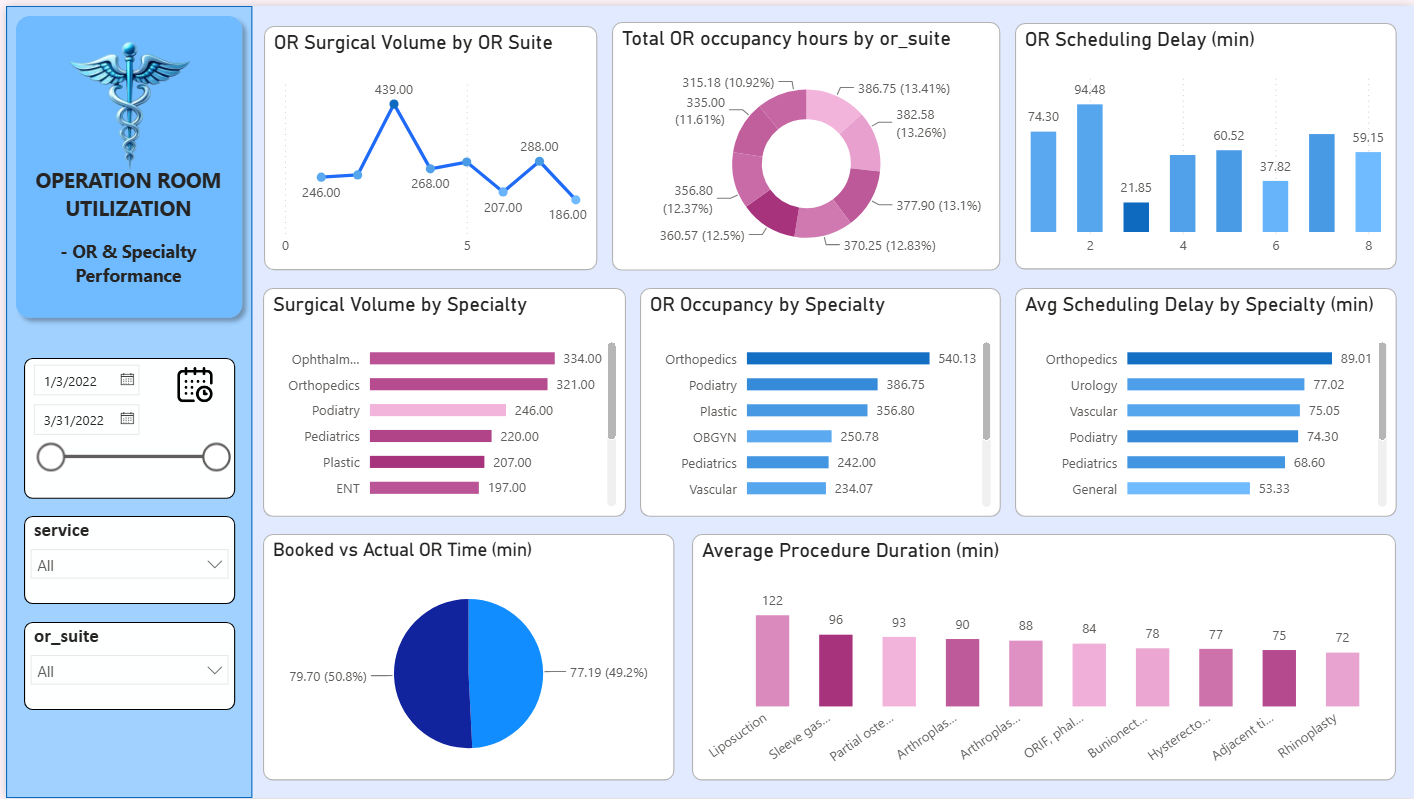

Layout of this report page (visuals, bound fields, positions):
{"tool":"powerbi","page":{"name":"- OR & Specialty Performance","canvas":[1280,720],"ordinal":1},"visuals":[{"type":"shape","box":[0,0,224,720],"z":0},{"type":"slicer","fields":{"Values":["or_utilization_v2.surgery_date"]},"box":[16,320,192,128],"z":1000},{"type":"shape","box":[0,0,223.8,292.3],"z":2000},{"type":"textbox","box":[15.7,145.7,191.4,124.3],"z":3000},{"type":"slicer","fields":{"Values":["or_utilization_v2.or_suite"]},"box":[16,560,192,80],"z":4000},{"type":"slicer","fields":{"Values":["or_utilization_v2.service"]},"box":[16,464,192,80],"z":5000},{"type":"group","id":"g1","title":"Group 2","box":[234.3,14.9,1029.7,225.6],"z":6000},{"type":"lineChart","title":"OR Surgical Volume by OR Suite","fields":{"Y":["or_utilization_v2.Total Surgeries"],"Category":["or_utilization_v2.or_suite"]},"box":[234.3,18.5,302.5,221.7],"z":6000,"group":"g1"},{"type":"donutChart","fields":{"Category":["or_utilization_v2.or_suite"],"Y":["or_utilization_v2.Total OR occupancy hours"]},"box":[550.6,14.9,353.3,225.6],"z":7000,"group":"g1"},{"type":"clusteredColumnChart","title":"Average Procedure Duration (min)","fields":{"Category":["or_utilization_v2.cpt_description"],"Y":["or_utilization_v2.Avg Procedure duration (min)"]},"box":[623.8,480,640,223.8],"z":7000},{"type":"clusteredColumnChart","title":"OR Scheduling Delay (min)","fields":{"Category":["or_utilization_v2.or_suite"],"Y":["or_utilization_v2.Avg Scheduling Delay"]},"box":[917,16,347,224],"z":8000,"group":"g1"},{"type":"clusteredBarChart","title":"Surgical Volume by Specialty ","fields":{"Category":["or_utilization_v2.service"],"Y":["or_utilization_v2.Total Surgeries"]},"box":[233.8,256.2,330,207.5],"z":8000},{"type":"pieChart","title":"Booked vs Actual OR Time (min)","fields":{"Y":["or_utilization_v2.Avg Booked Time","or_utilization_v2.Avg OR Occupancy"]},"box":[233.8,480,373.8,223.8],"z":9000},{"type":"clusteredBarChart","title":"OR Occupancy by Specialty ","fields":{"Category":["or_utilization_v2.service"],"Y":["or_utilization_v2.Total OR occupancy hours"]},"box":[576,256,328,208],"z":10000},{"type":"image","box":[16.2,16.2,192,144],"z":11000},{"type":"clusteredBarChart","title":"Avg Scheduling Delay by Specialty (min) ","fields":{"Category":["or_utilization_v2.service"],"Y":["or_utilization_v2.Avg Scheduling Delay"]},"box":[917,256,347,208],"z":12000},{"type":"image","box":[152,328,40,32],"z":13000}]}

Visuals, with their boxes in screenshot pixels (x1, y1, x2, y2), scaled from the page's 1280x720 canvas onto the 1414x799 screenshot:
shape: (0,0,247,798)
slicer - or_utilization_v2.surgery_date: (18,355,230,497)
shape: (0,0,247,324)
textbox: (17,162,229,300)
slicer - or_utilization_v2.or_suite: (18,621,230,710)
slicer - or_utilization_v2.service: (18,515,230,604)
"Group 2" group: (259,17,1396,267)
"OR Surgical Volume by OR Suite" lineChart: (259,21,593,267)
donutChart - or_utilization_v2.or_suite x or_utilization_v2.Total OR occupancy hours: (608,17,999,267)
"Average Procedure Duration (min)" clusteredColumnChart: (689,533,1396,781)
"OR Scheduling Delay (min)" clusteredColumnChart: (1013,18,1396,266)
"Surgical Volume by Specialty " clusteredBarChart: (258,284,623,515)
"Booked vs Actual OR Time (min)" pieChart: (258,533,671,781)
"OR Occupancy by Specialty " clusteredBarChart: (636,284,999,515)
image: (18,18,230,178)
"Avg Scheduling Delay by Specialty (min) " clusteredBarChart: (1013,284,1396,515)
image: (168,364,212,400)
